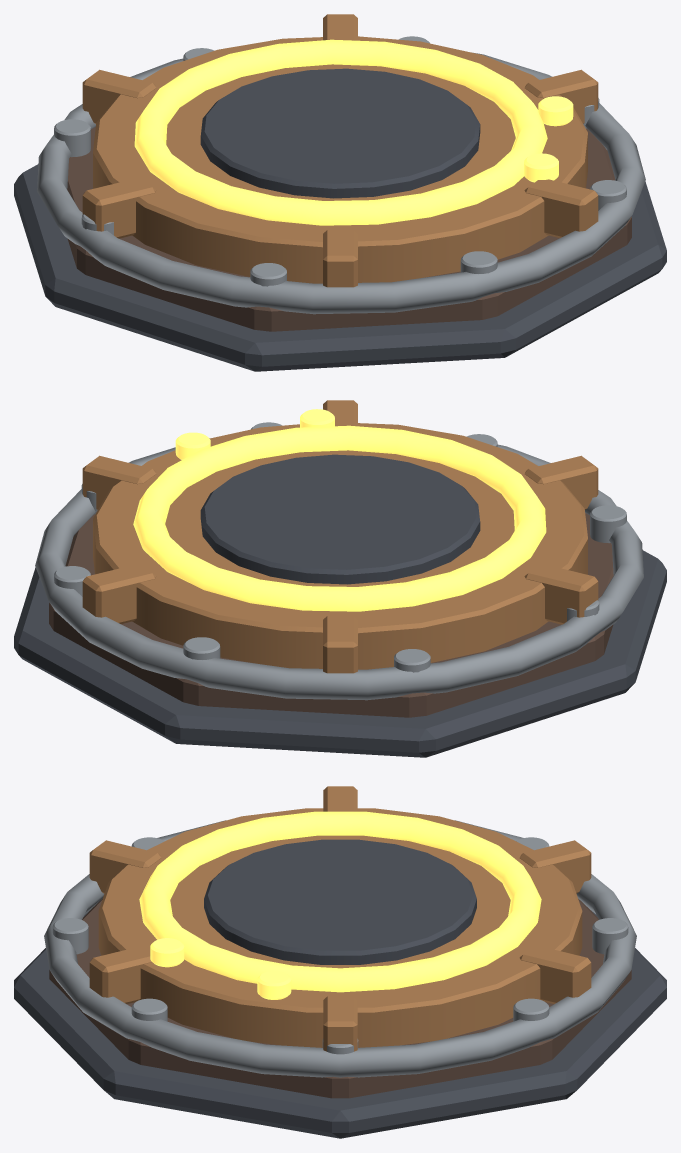
File: cannon_base_l2.glb
The picture shows the model from 3 angles, top to bottom: view 1: azimuth 30°, elevation 25°; view 2: azimuth 150°, elevation 25°; view 3: azimuth 270°, elevation 25°; orthographic projection. The views are drawn at different scales.
Visible parts, largest first — view 1: Cylinder.002, Cylinder, Cylinder.003, Torus.001, Torus, Cylinder.001, Cube.005, Cube.003, Cube.002, Cube.004, Cube, Cylinder.007 (+6 smaller); view 2: Cylinder.002, Cylinder, Cylinder.003, Torus.001, Torus, Cylinder.001, Cube.001, Cube.003, Cube.004, Cube.002, Cube, Cylinder.009 (+6 smaller); view 3: Cylinder.002, Cylinder, Cylinder.003, Torus, Torus.001, Cylinder.001, Cube.001, Cube.005, Cube.002, Cube.004, Cube, Cylinder.006 (+6 smaller).
Boxes of the visible parts, x1,y1,x2,y2 form: Cylinder.002: (93,36,587,283); Cylinder: (14,164,666,371); Cylinder.003: (200,68,480,198); Torus.001: (134,39,547,225); Torus: (37,52,645,314); Cylinder.001: (67,127,631,331); Cube.005: (524,179,598,237); Cube.003: (82,177,156,238); Cube.002: (82,69,156,123); Cube.004: (323,229,357,287); Cube: (524,69,598,123); Cylinder.007: (54,119,90,157); Cylinder.002: (93,423,587,669); Cylinder: (14,550,666,757); Cylinder.003: (200,454,480,584); Torus.001: (133,425,546,611); Torus: (35,444,643,700); Cylinder.001: (49,513,613,717); Cube.001: (82,563,156,623); Cube.003: (524,563,598,624); Cube.004: (524,455,598,509); Cube.002: (323,615,357,673); Cube: (82,455,156,509); Cylinder.009: (590,505,626,543); Cylinder.002: (98,808,582,1047); Cylinder: (14,910,666,1138); Cylinder.003: (204,839,476,964); Torus: (44,820,636,1077); Torus.001: (139,811,541,992); Cylinder.001: (49,898,631,1098); Cube.001: (519,945,591,1004); Cube.005: (89,945,151,1004); Cube.002: (519,840,591,893); Cube.004: (89,840,161,893); Cube: (323,996,357,1051); Cylinder.006: (592,918,628,954).
Size of the model in its own units: 2.11 by 0.4 by 2.11.
